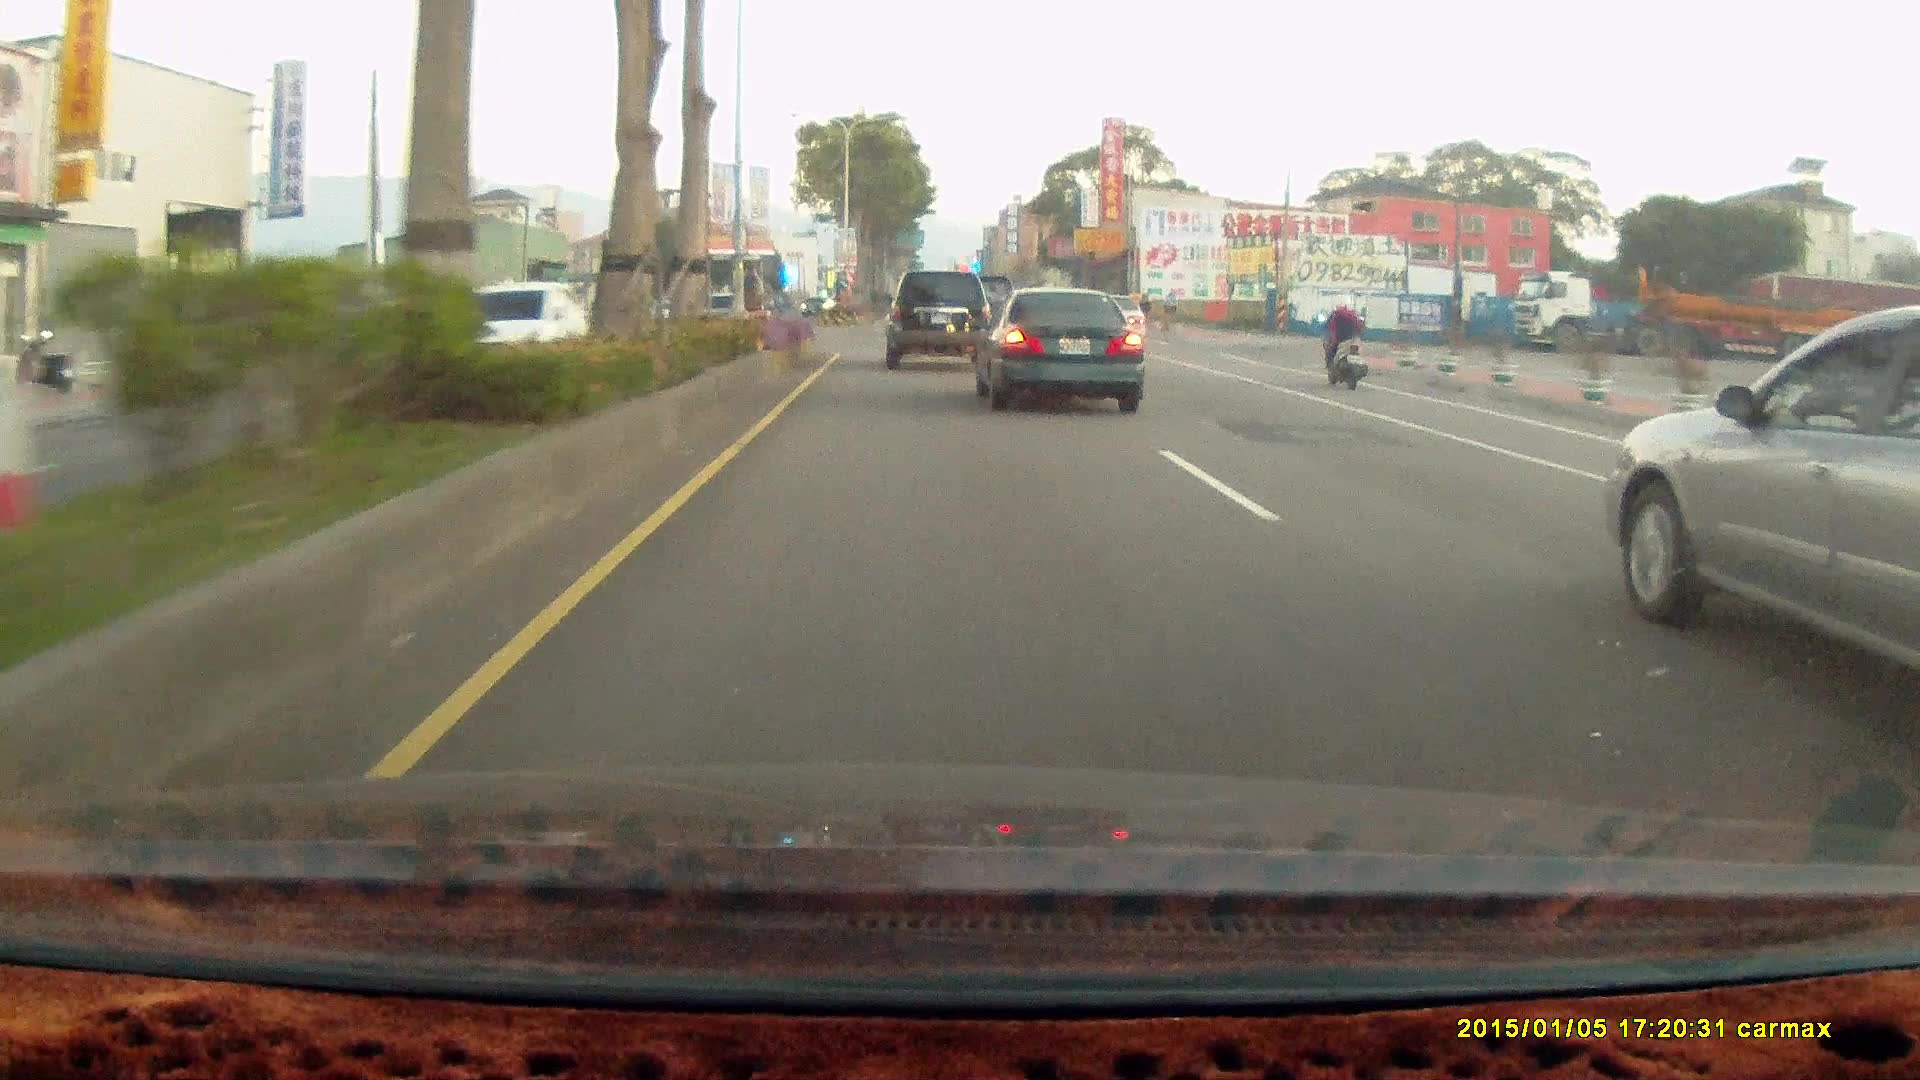rider: (1312, 289, 1377, 397), (1313, 292, 1369, 388)
vehicle: (1620, 300, 1920, 712), (1509, 264, 1876, 361), (969, 286, 1144, 413), (976, 289, 1146, 411), (444, 275, 595, 371), (887, 268, 996, 370), (883, 268, 991, 369)
